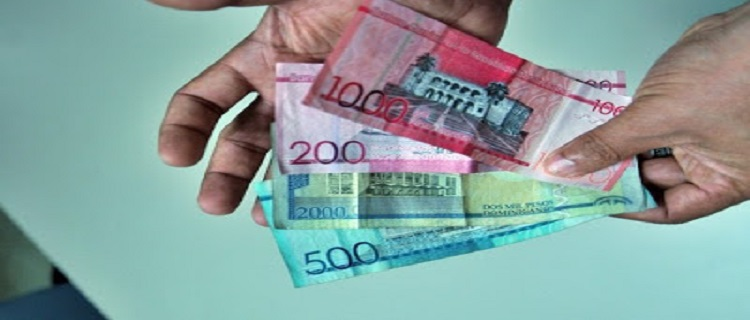billete: (258, 1, 661, 289)
